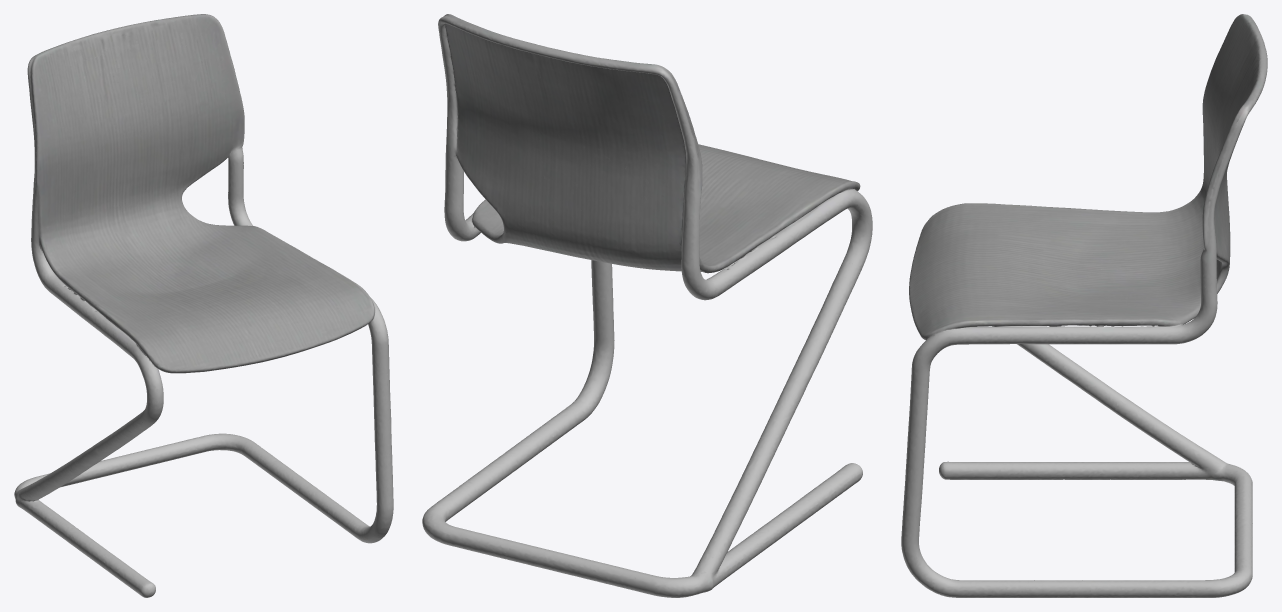
The model's file is coffee-table-2.glb.
3 renders of one model, left to right at view 1: azimuth 30°, elevation 25°; view 2: azimuth 150°, elevation 25°; view 3: azimuth 270°, elevation 25°, orthographic. The views are drawn at different scales.
Visible parts, largest first — view 1: world; view 2: world; view 3: world.
Boxes of the visible parts, x1,y1,x2,y2 form: world: [14, 14, 393, 597]; world: [422, 14, 872, 597]; world: [901, 14, 1267, 597].
Bounding box in the file's own units: 0.57 × 1 × 0.6969.
Materials: 1 (1 with a texture image).
